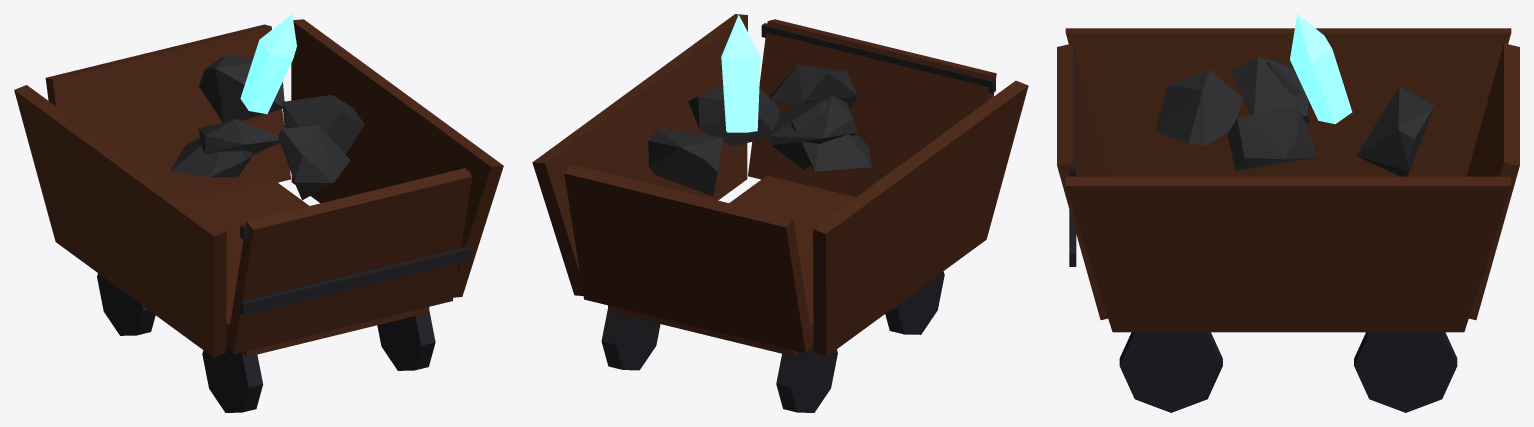
Rendered from vagoneta.fbx.
3 views of the same model, side by side, from view 1: azimuth 30°, elevation 25°; view 2: azimuth 150°, elevation 25°; view 3: azimuth 270°, elevation 25° (orthographic). The views are drawn at different scales.
Visible parts, largest first — view 1: vagoneta; view 2: vagoneta; view 3: vagoneta.
Boxes of the visible parts, x1,y1,x2,y2 form: vagoneta: [14, 14, 503, 412]; vagoneta: [532, 14, 1028, 412]; vagoneta: [1057, 14, 1519, 412].
Size of the model in its own units: 1.59 by 1.71 by 1.97.
